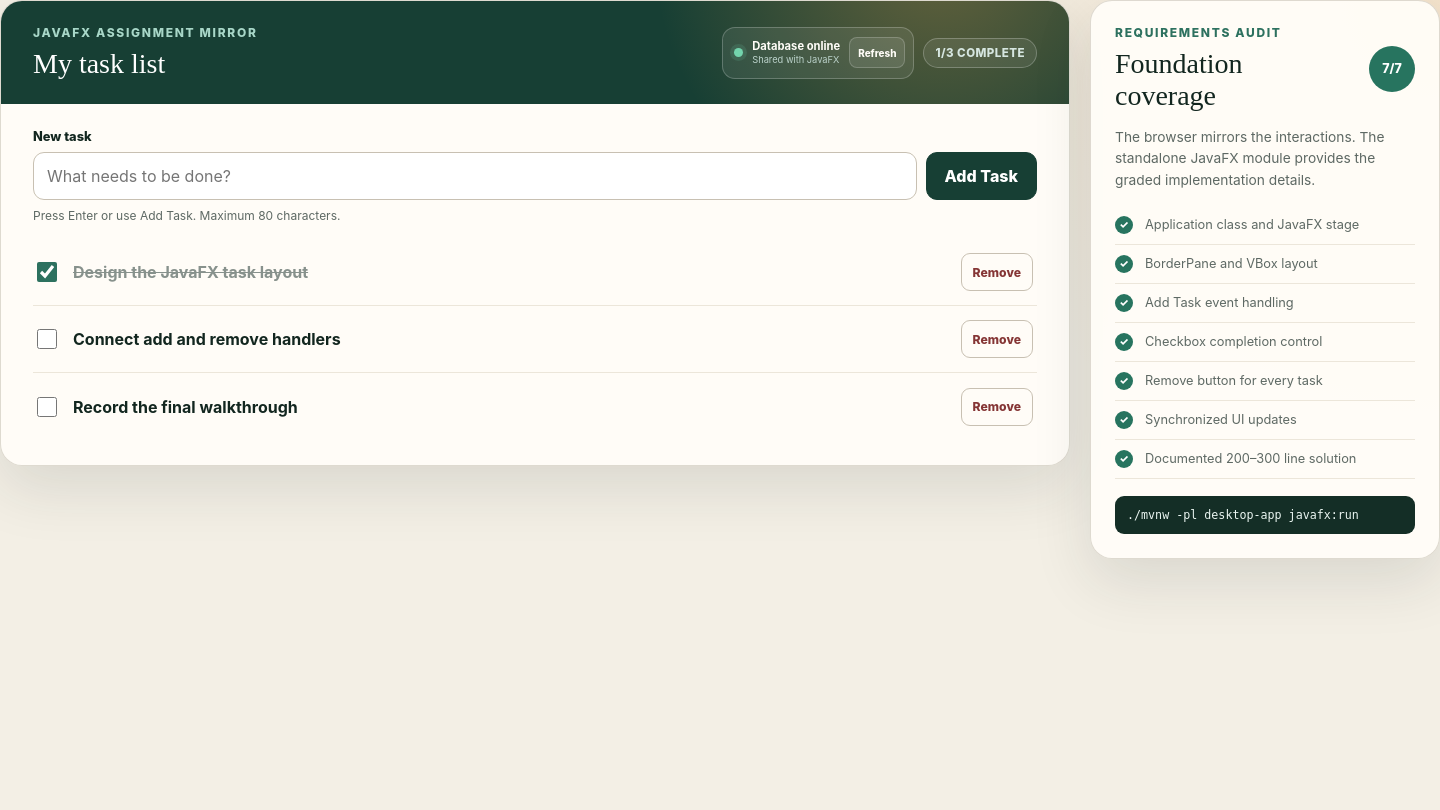
Scenario: FoundationTaskLab › validates blank and duplicate task titles
Expected: the text "Design the JavaFX task layout" is shown, [73,262,308,282]
Click the button "Add Task" at [981, 176], box [926,152,1037,200]
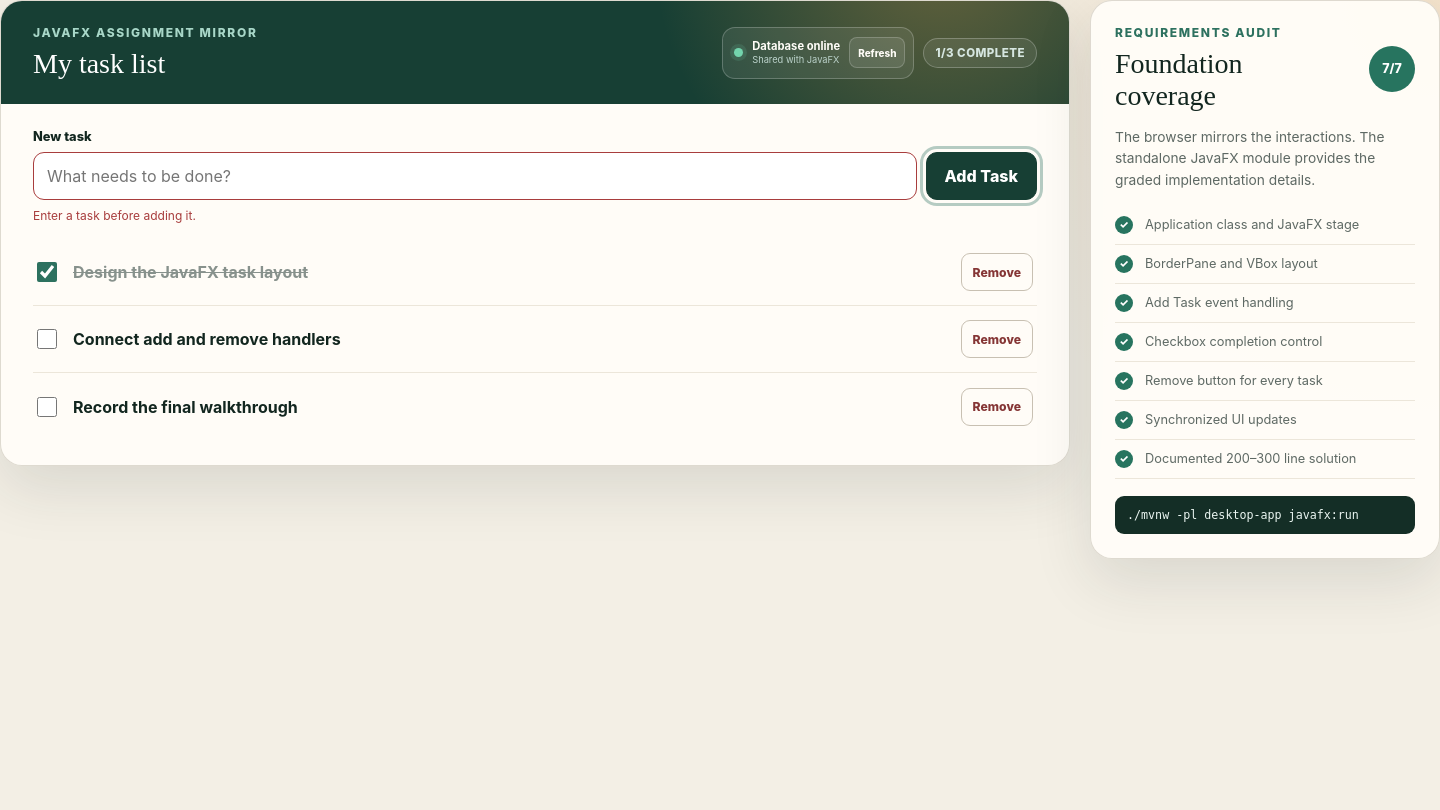
Expected: the text "Enter a task before adding it." is shown, [33,208,196,223]
Type "design the javafx task layout" into the field labelled "New task" at [475, 176], box [33,152,917,200]
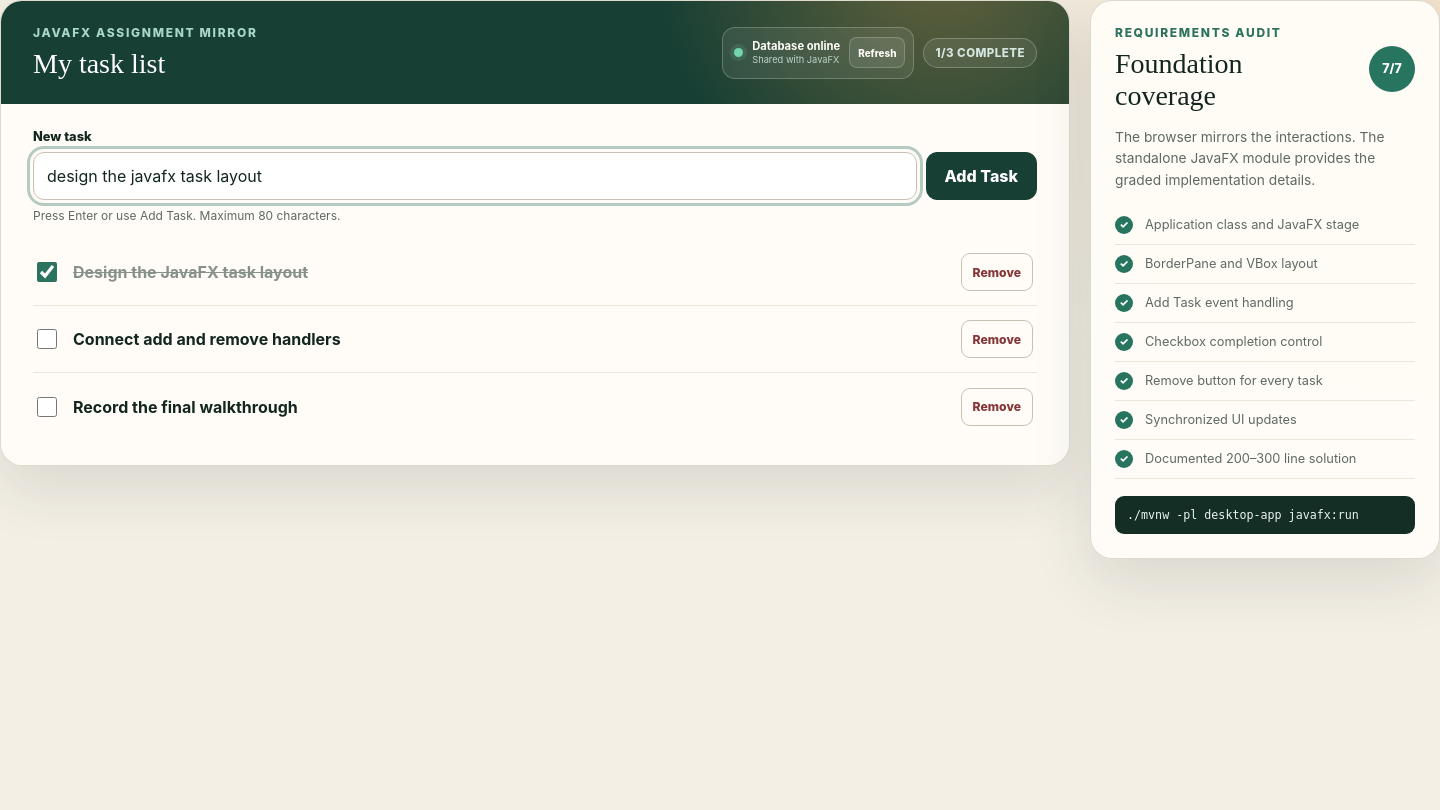
Click the button "Add Task" at [981, 176], box [926,152,1037,200]
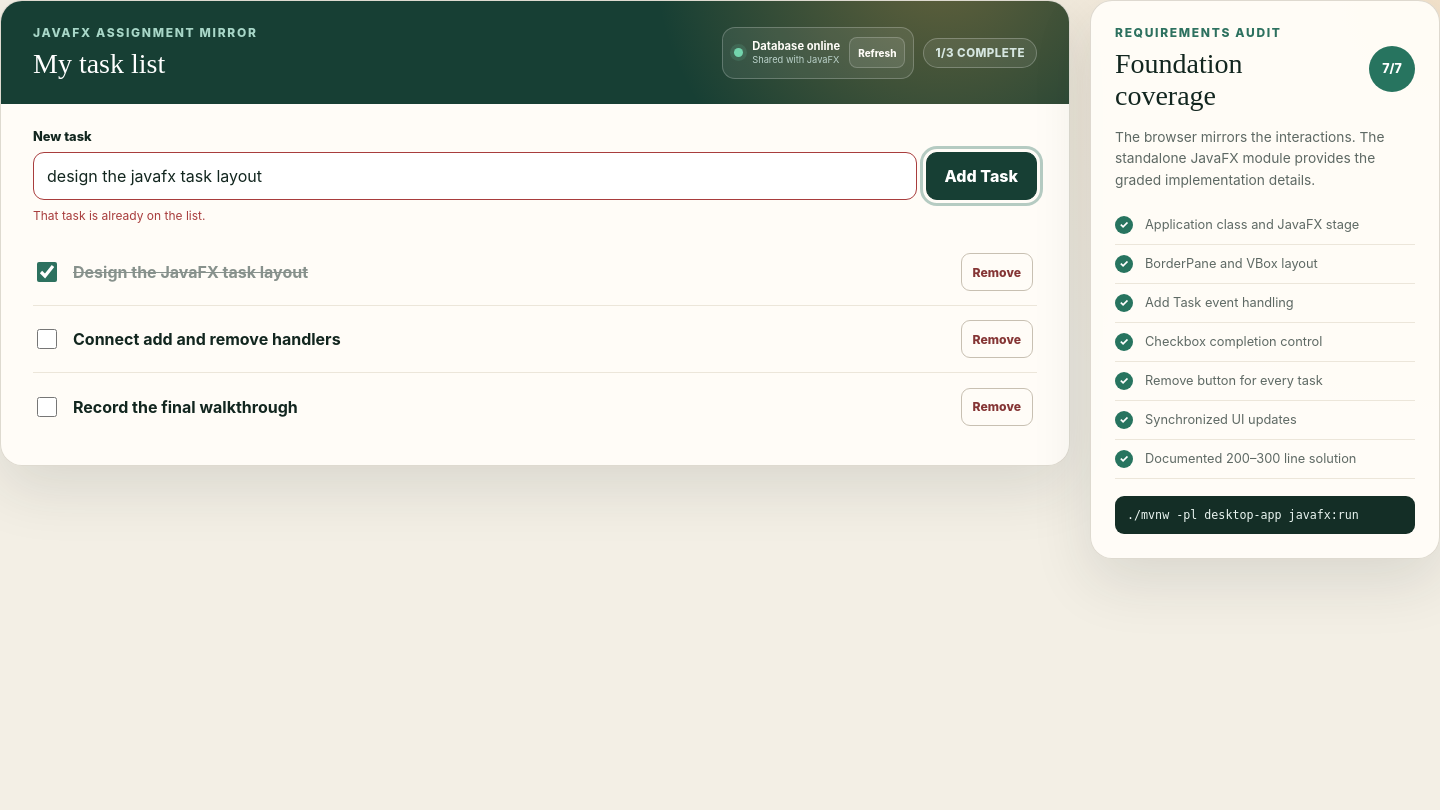
Expected: the text "That task is already on the list." is shown, [33,208,205,223]
